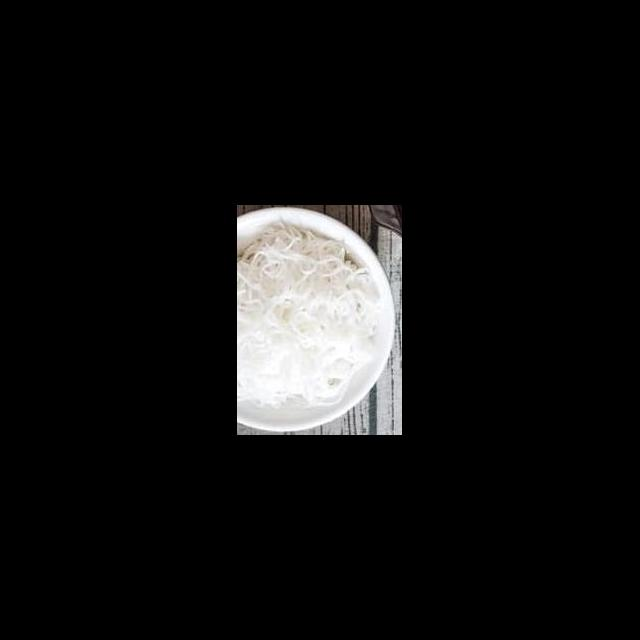bun: (238, 214, 386, 416)
